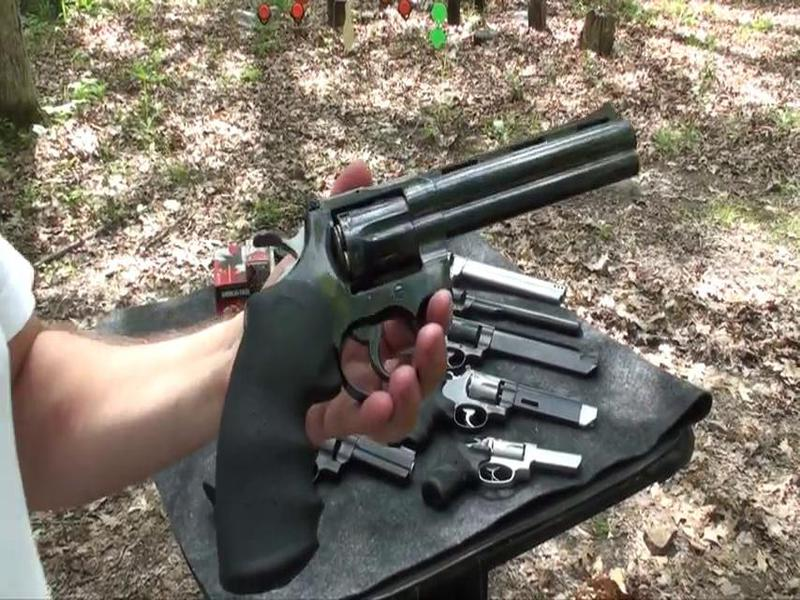Revolver: (214, 99, 654, 575)
